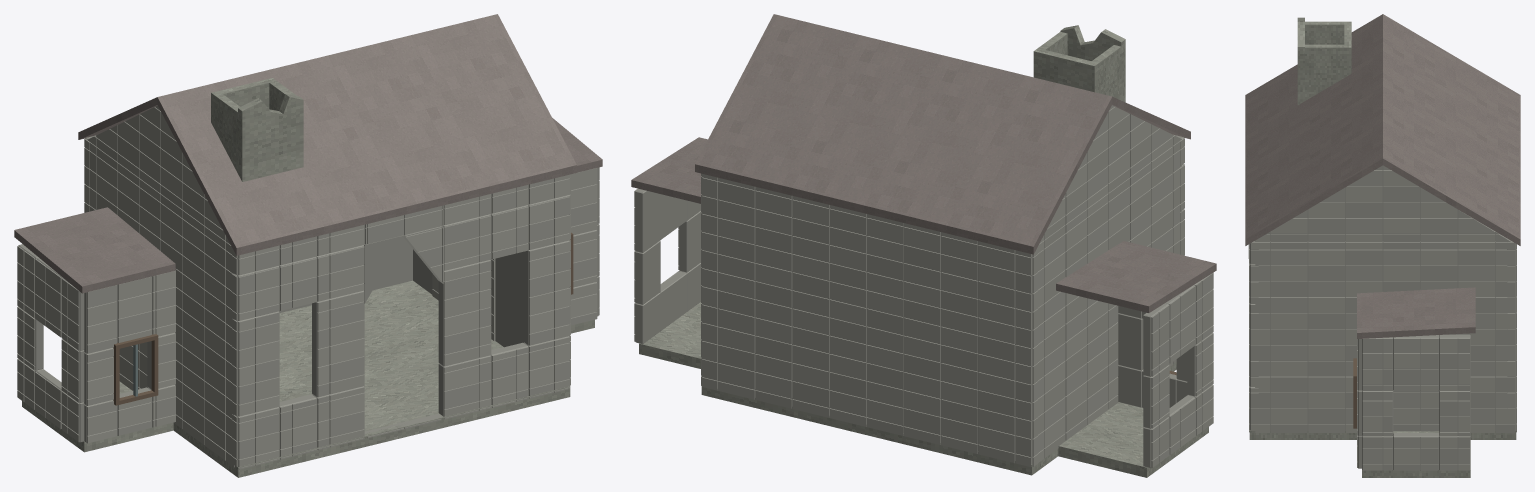
Rendered from 038_cross_plan_stone_chapel.glb.
3 views of the same model, side by side, from view 1: azimuth 30°, elevation 25°; view 2: azimuth 150°, elevation 25°; view 3: azimuth 270°, elevation 25° (orthographic). The views are drawn at different scales.
Parts seen in each view (by area): view 1: BLD-038_facade_stone, BLD-038_roof, Chapel_foundation, BLD-038_tower_base, BLD-038_chapel_front, BLD-038_chapel_sides, BLD-038_chapel_arm_west_side_-1, BLD-038_frames, BLD-038_annex_foundations, BLD-038_entry_arch, BLD-038_chapel_arm_west_front, chapel_back; view 2: BLD-038_facade_stone, BLD-038_roof, BLD-038_chapel_arm_east_side_1, BLD-038_annex_foundations, BLD-038_tower_base, BLD-038_chapel_arm_west_front, Chapel_foundation, BLD-038_chapel_arm_west_side_-1, chapel_back; view 3: BLD-038_facade_stone, BLD-038_roof, BLD-038_tower_base, BLD-038_chapel_arm_east_side_1, BLD-038_chapel_sides, Chapel_foundation, BLD-038_annex_foundations, BLD-038_gables, BLD-038_chapel_arm_east_front.
Boxes of the visible parts, box(x1,y1,x2,y2) form: BLD-038_facade_stone: box(17, 105, 599, 469); BLD-038_roof: box(14, 14, 602, 293); Chapel_foundation: box(173, 280, 570, 477); BLD-038_tower_base: box(211, 78, 303, 181); BLD-038_chapel_front: box(235, 179, 569, 467); BLD-038_chapel_sides: box(413, 249, 523, 347); BLD-038_chapel_arm_west_side_-1: box(18, 244, 84, 442); BLD-038_frames: box(113, 232, 573, 405); BLD-038_annex_foundations: box(22, 319, 594, 452); BLD-038_entry_arch: box(364, 225, 443, 303); BLD-038_chapel_arm_west_front: box(84, 276, 174, 443); chapel_back: box(85, 135, 412, 312); BLD-038_facade_stone: box(634, 105, 1213, 467); BLD-038_roof: box(631, 14, 1216, 312); BLD-038_chapel_arm_east_side_1: box(635, 189, 701, 344); BLD-038_annex_foundations: box(639, 302, 1208, 477); BLD-038_tower_base: box(1033, 25, 1125, 102); BLD-038_chapel_arm_west_front: box(1118, 306, 1187, 407); Chapel_foundation: box(701, 362, 1176, 475); BLD-038_chapel_arm_west_side_-1: box(1143, 277, 1212, 467); chapel_back: box(702, 179, 1032, 464); BLD-038_facade_stone: box(1248, 165, 1516, 470); BLD-038_roof: box(1245, 14, 1520, 338); BLD-038_tower_base: box(1297, 17, 1351, 104); BLD-038_chapel_arm_east_side_1: box(1362, 334, 1470, 470); BLD-038_chapel_sides: box(1259, 241, 1506, 430); Chapel_foundation: box(1249, 430, 1516, 439); BLD-038_annex_foundations: box(1362, 431, 1470, 477); BLD-038_gables: box(1255, 165, 1510, 241); BLD-038_chapel_arm_east_front: box(1358, 339, 1361, 468).
Bounding box in the file's own units: 12.55 × 7.92 × 6.6.
9 materials, 3 textured.
